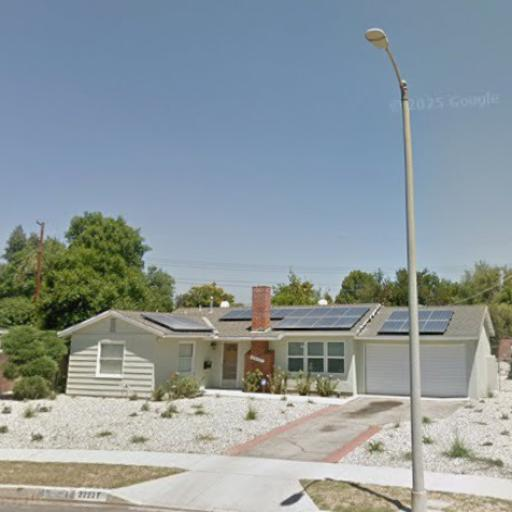poste: (358, 28, 434, 510)
